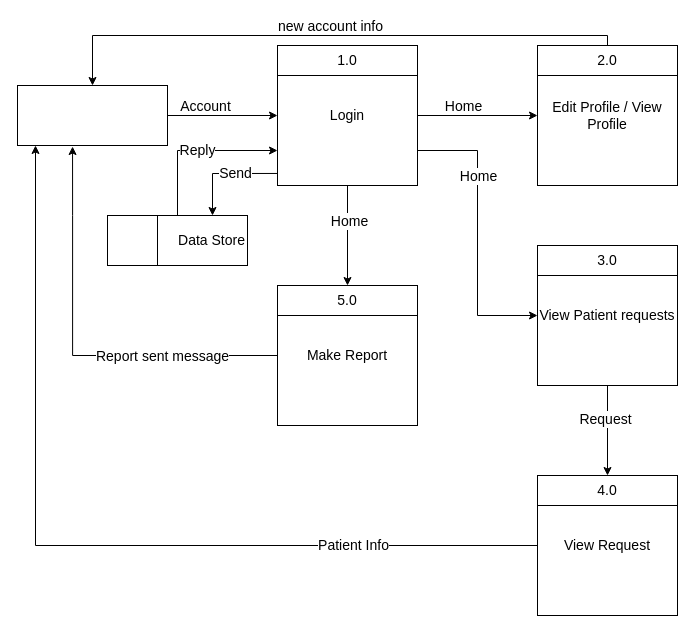
The diagram is 695 pixels wide and 633 high, and some of its shapes have lost their labels. The shapes that lost their labels are listed below. From the top down, each one's centre as x and y in pixels, then its label:
the point at 92,115: Ambulance
the point at 132,240: DS1
